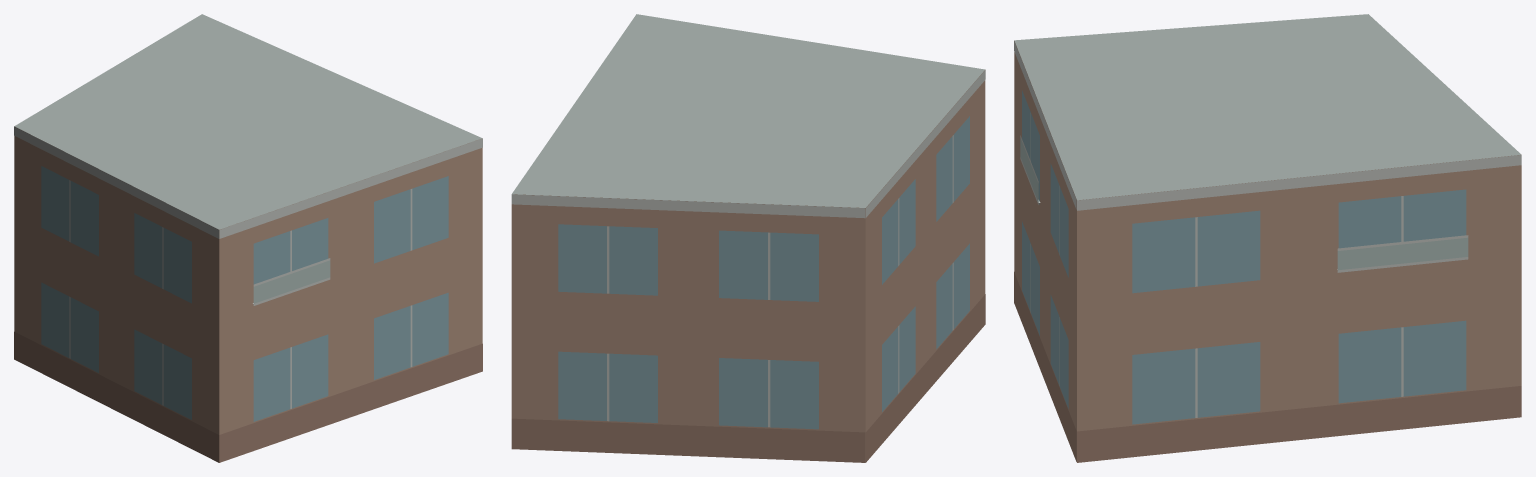
Rendered from survey-upis-32670412.glb.
The picture shows the model from 3 angles, left to right: view 1: azimuth 30°, elevation 25°; view 2: azimuth 150°, elevation 25°; view 3: azimuth 270°, elevation 25°; orthographic projection. The views are drawn at different scales.
Parts seen in each view (by area): view 1: survey-upis-32670412.tmp; view 2: survey-upis-32670412.tmp; view 3: survey-upis-32670412.tmp.
Part boxes in pixels (x1,y1,x2,y2): survey-upis-32670412.tmp: (14,14,482,462); survey-upis-32670412.tmp: (511,14,985,462); survey-upis-32670412.tmp: (1014,14,1521,462).
Bounding box in the file's own units: 9.3 × 6.1 × 10.7.
